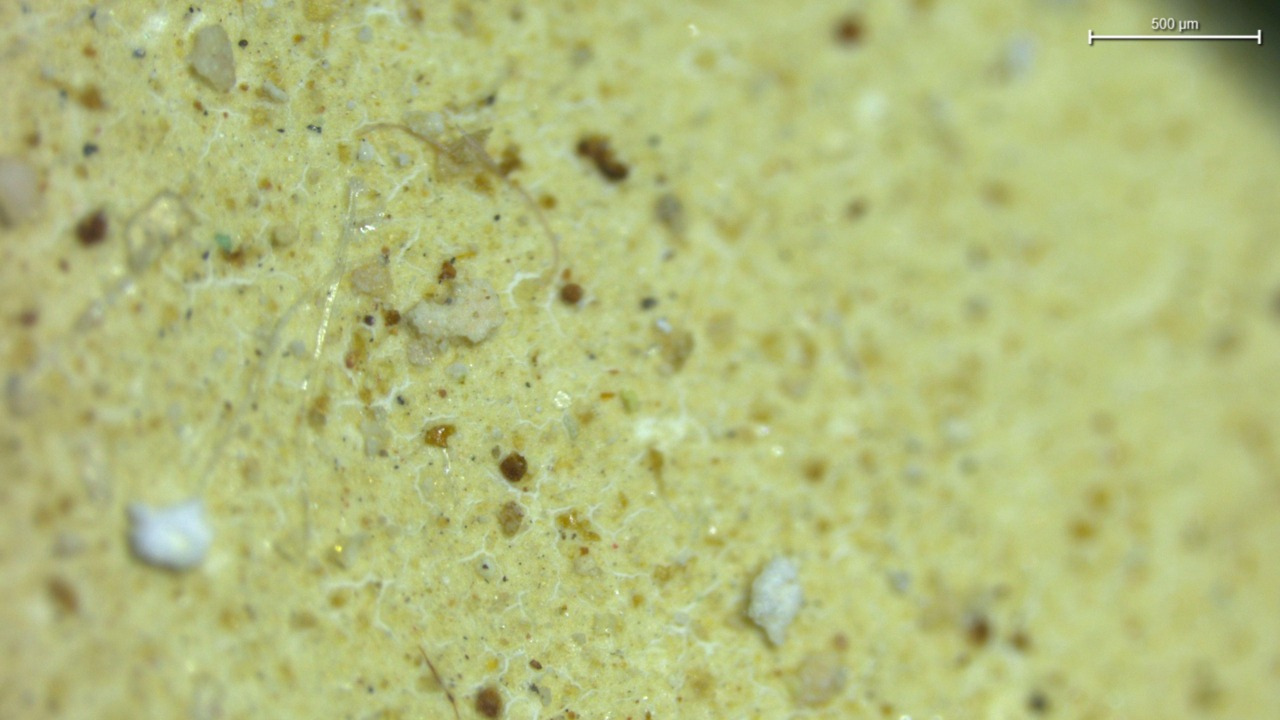microplastic_fragment: (124, 505, 216, 576), (404, 289, 505, 344), (748, 557, 804, 649), (188, 22, 241, 95)
